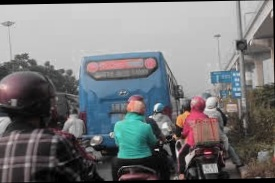Bien-so: (202, 163, 219, 175)
